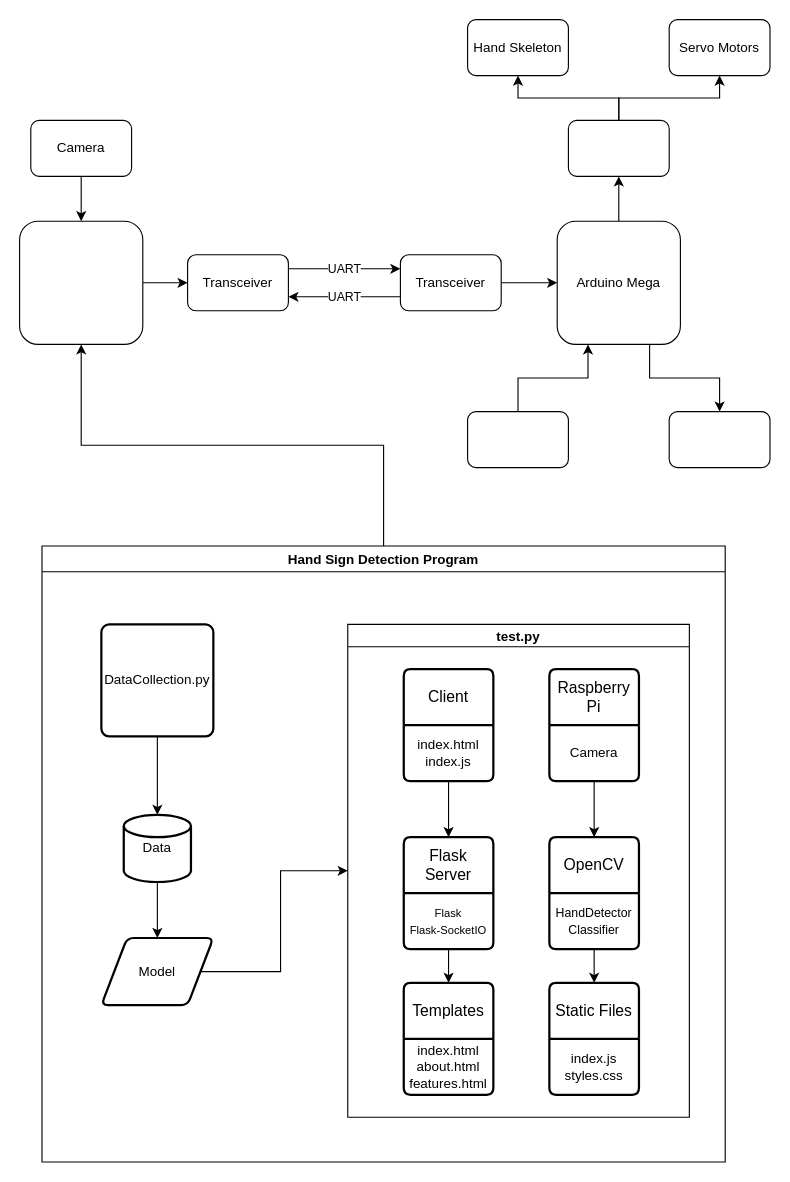
Some shapes in this 790 by 1182 pixel diagram are drawn without their labels. The shapes that lost their labels are listed below. From the top down, each one's box as (x1, y1, x2, y2) in pixels, then its label:
(567, 119, 669, 176): Robotic Hand
(18, 220, 143, 344): Raspberry pi 5
(466, 410, 568, 468): Battery
(668, 410, 770, 468): Speaker
